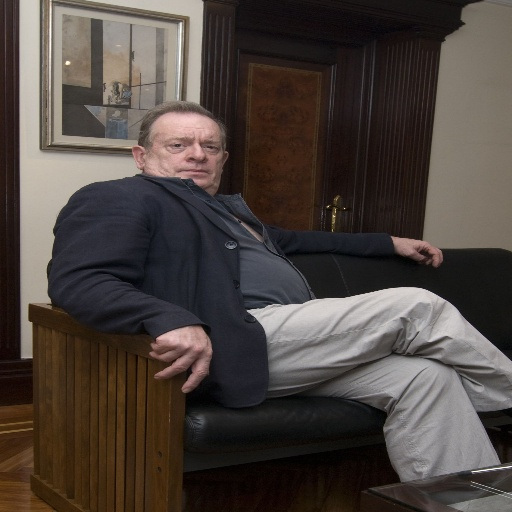hand: (142, 318, 223, 395), (393, 236, 444, 269)
